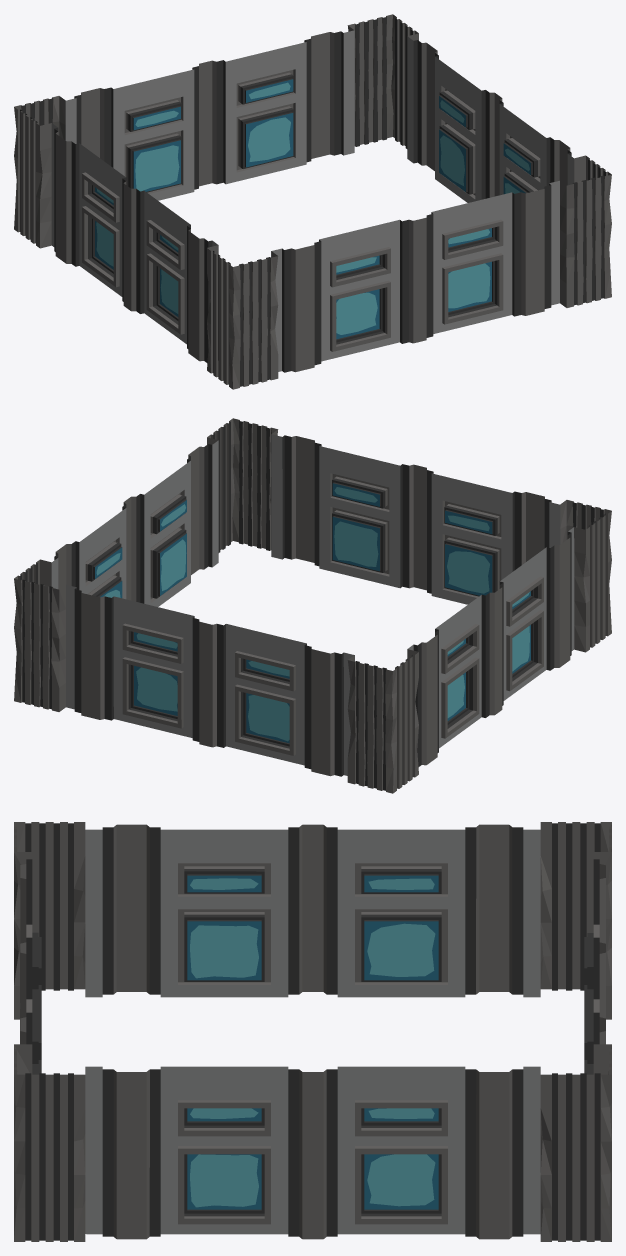
File: Building_C_03.FBX
The picture shows the model from 3 angles, top to bottom: view 1: azimuth 30°, elevation 25°; view 2: azimuth 150°, elevation 25°; view 3: azimuth 270°, elevation 25°; orthographic projection. The views are drawn at different scales.
Visible parts, largest first — view 1: Building_C_03; view 2: Building_C_03; view 3: Building_C_03.
Part boxes in pixels (left/top/right/bottom): Building_C_03: left=14, top=14, right=611, bottom=389; Building_C_03: left=14, top=418, right=611, bottom=793; Building_C_03: left=14, top=822, right=611, bottom=1241.
Bounding box in the file's own units: 9.7 × 3 × 9.71.
